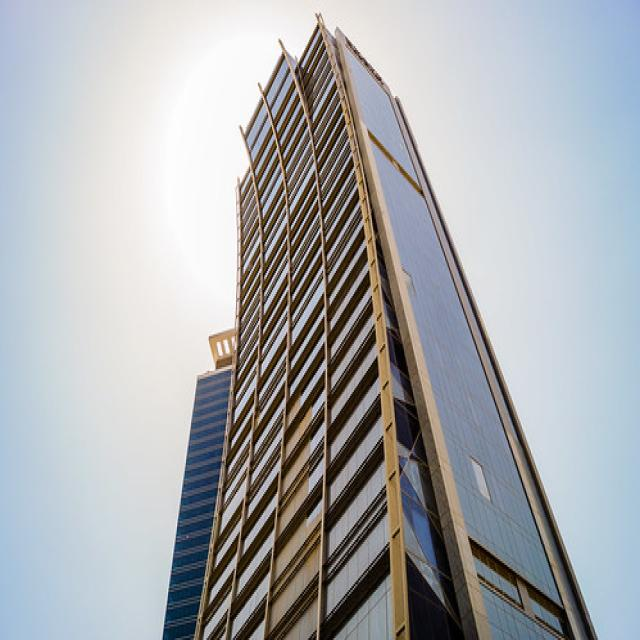building: (153, 11, 600, 640)
